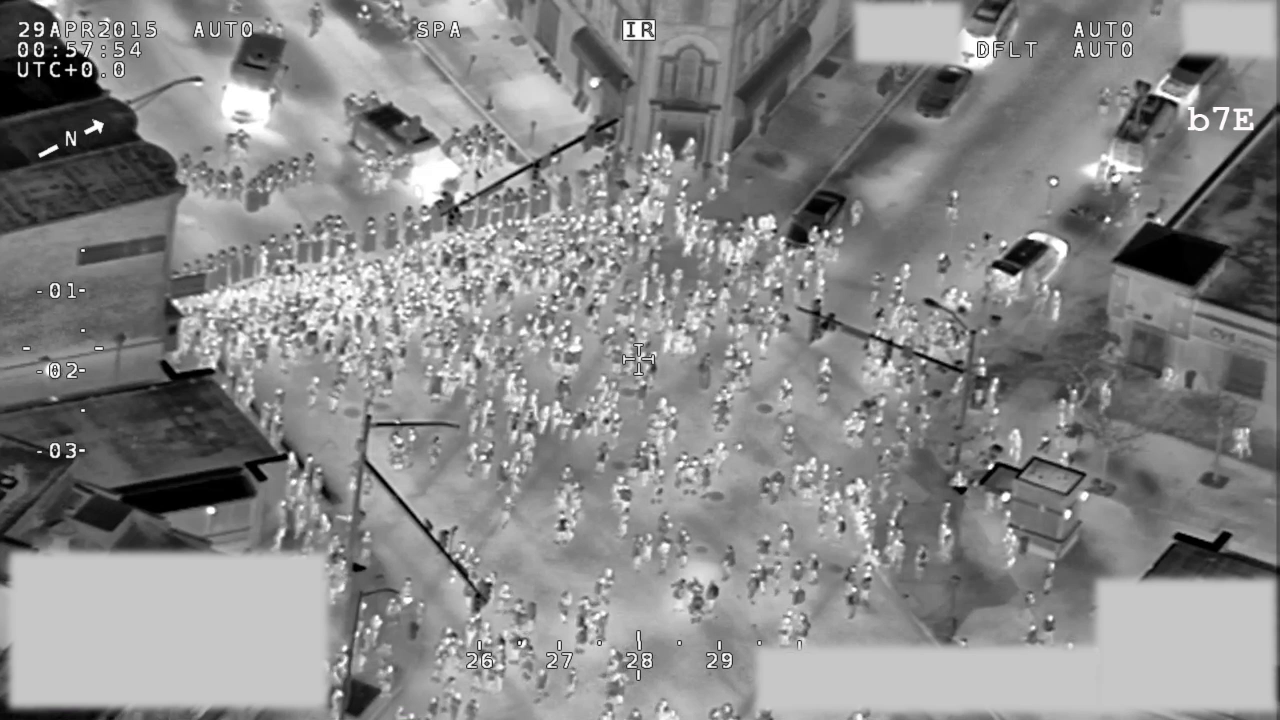vehicle: (346, 98, 468, 201), (1099, 78, 1182, 172), (218, 31, 288, 129), (982, 230, 1070, 302), (782, 188, 848, 254), (912, 65, 974, 122)
